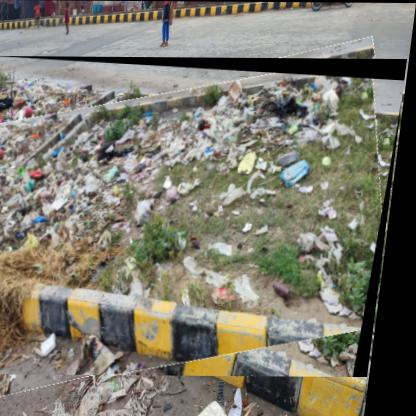Garbage: (1, 57, 410, 378)
